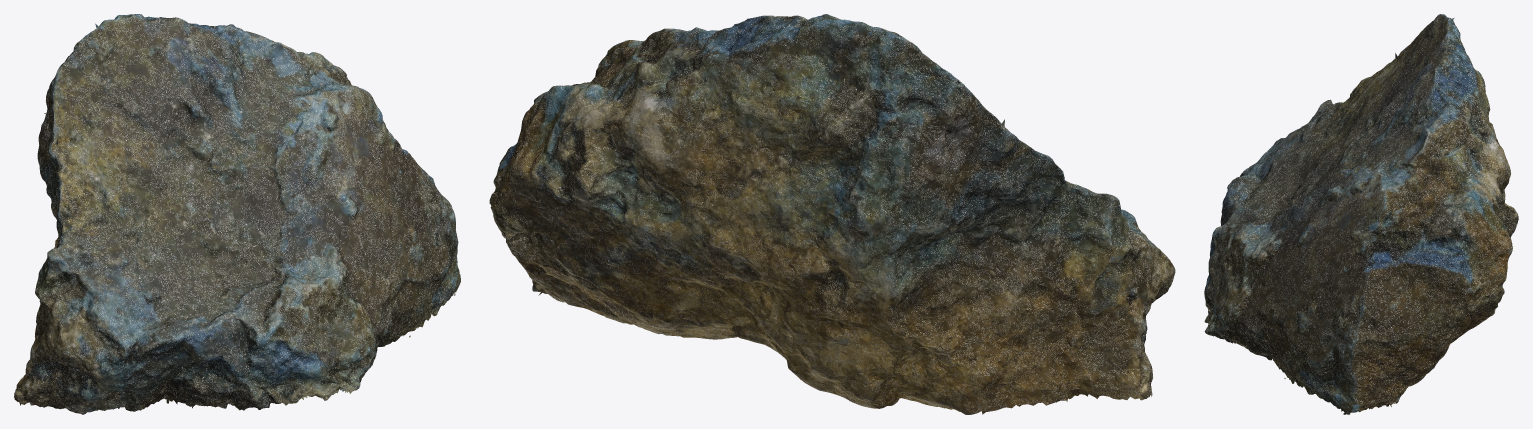
3 views of the same model, side by side, from view 1: azimuth 30°, elevation 25°; view 2: azimuth 150°, elevation 25°; view 3: azimuth 270°, elevation 25° (orthographic). The views are drawn at different scales.
Parts seen in each view (by area): view 1: aerinita; view 2: aerinita; view 3: aerinita.
Part boxes in pixels (left/top/right/bottom): aerinita: left=14, top=14, right=460, bottom=414; aerinita: left=489, top=14, right=1175, bottom=414; aerinita: left=1204, top=14, right=1518, bottom=414.
Bounding box in the file's own units: 1.53 × 0.9757 × 1.02.
2 materials, 1 textured.
